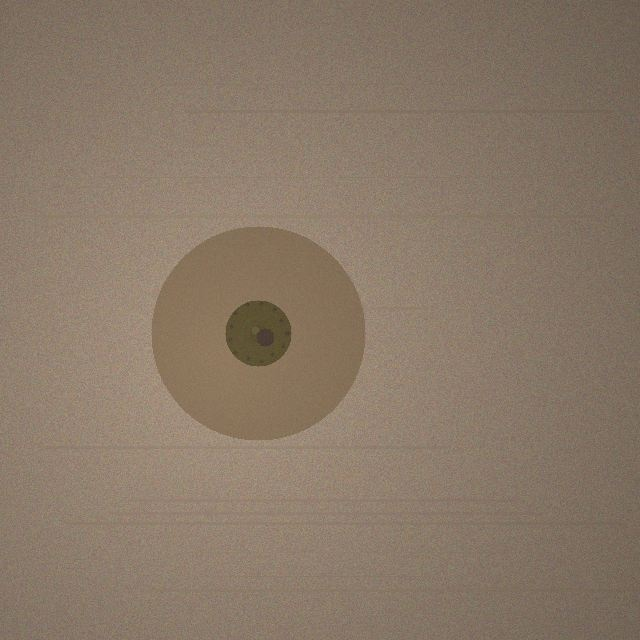cold_weld: (151, 226, 365, 440)
